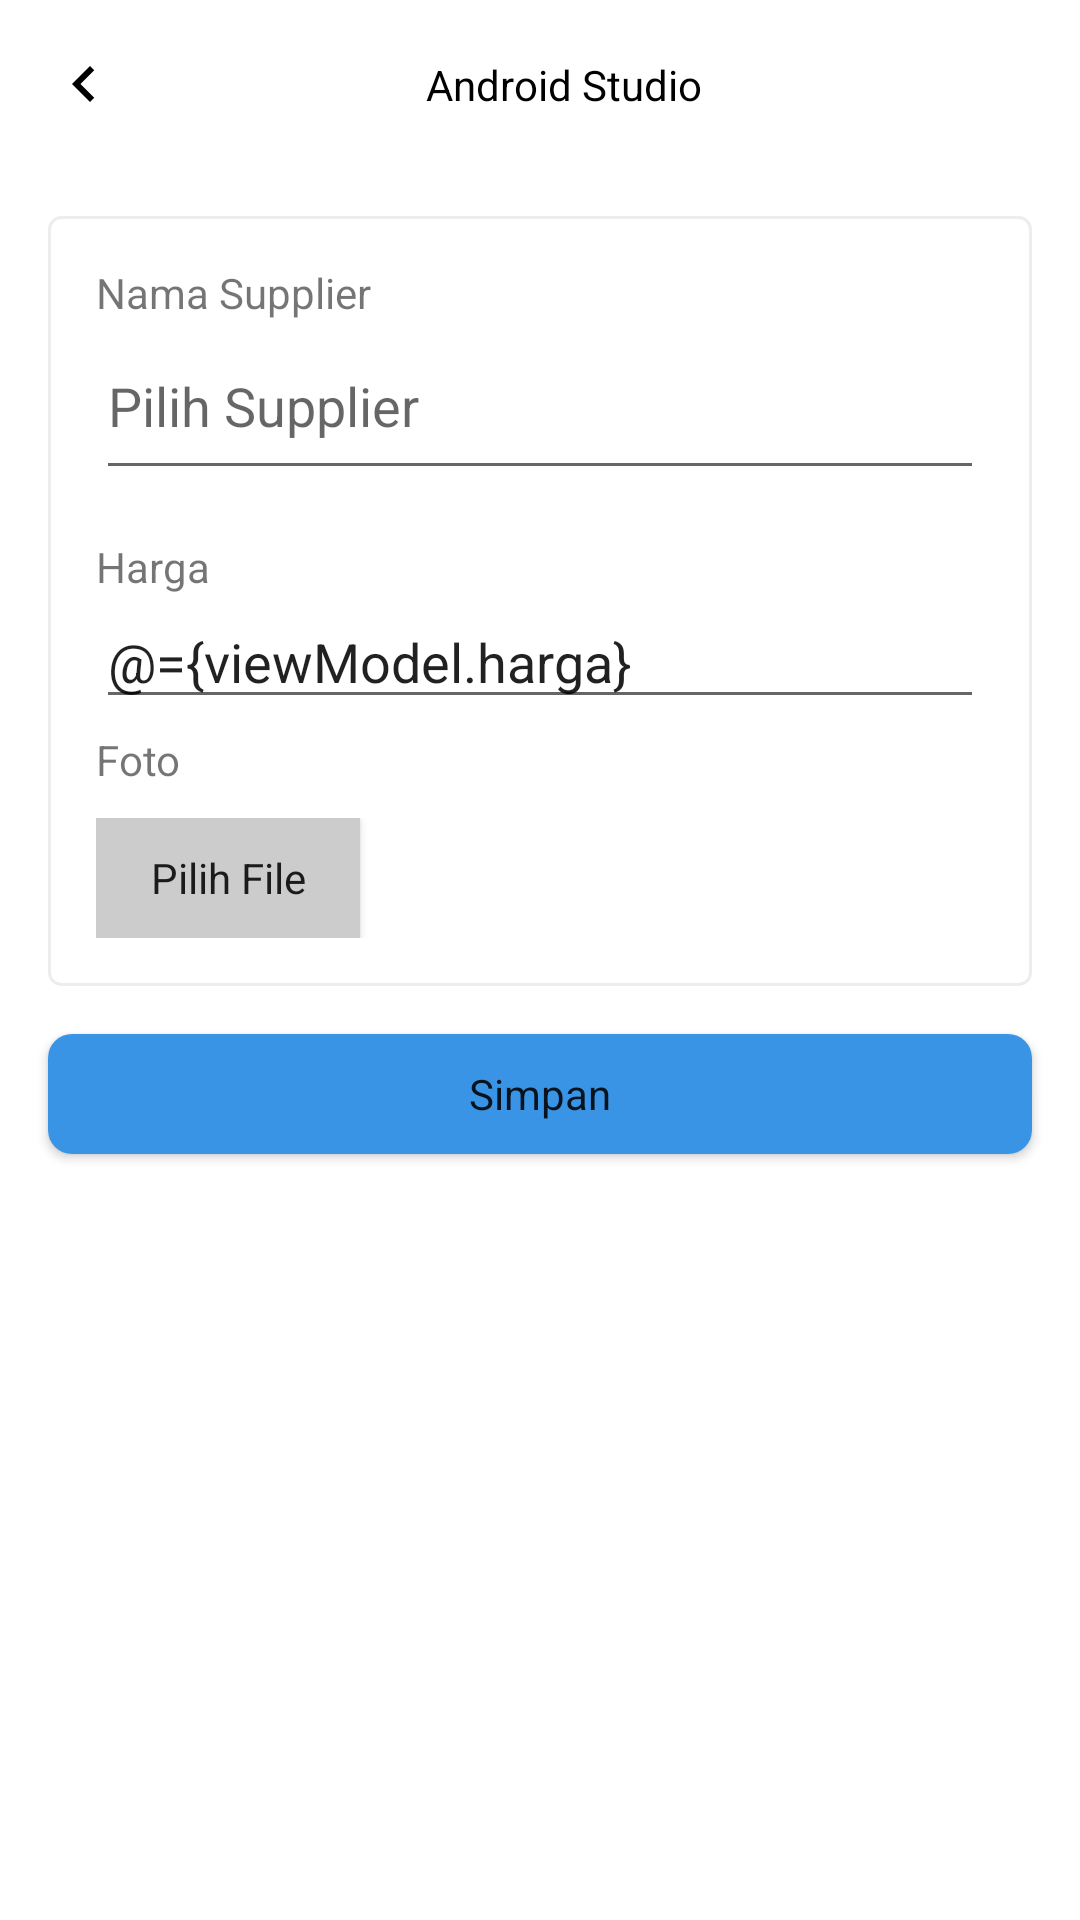

Screen size 1080w x 1920h. Icon name, then its center in pixels as (x=x, y=y):
chevron left: (x=83, y=84)
